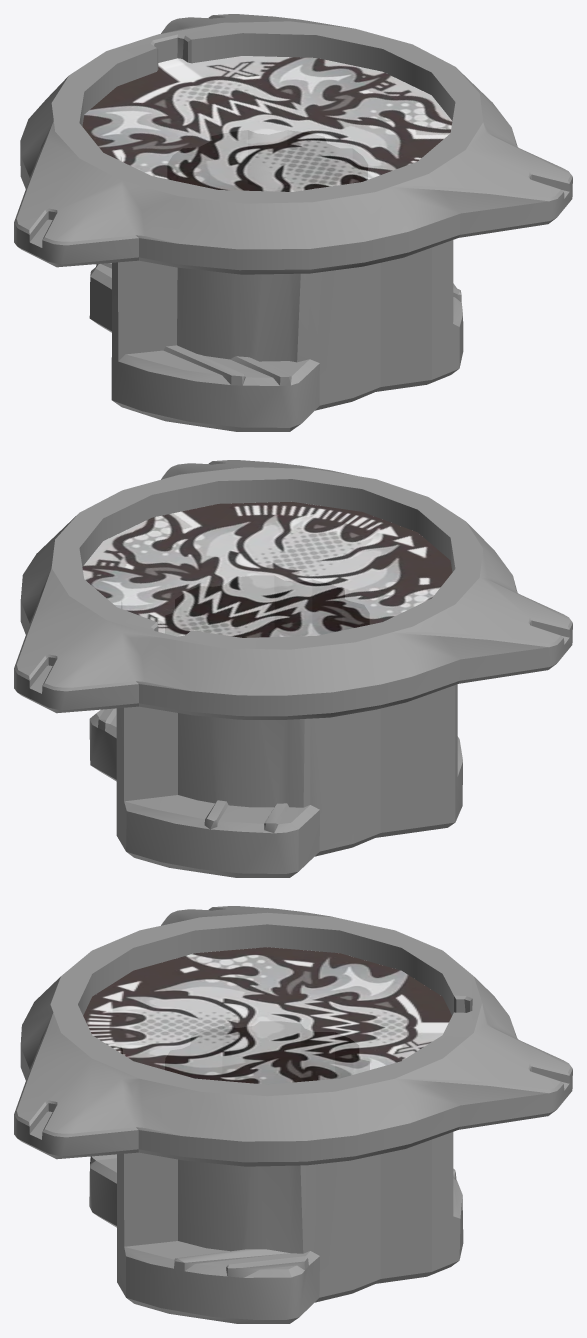
File: chip.glb
The picture shows the model from 3 angles, top to bottom: view 1: azimuth 30°, elevation 25°; view 2: azimuth 150°, elevation 25°; view 3: azimuth 270°, elevation 25°; orthographic projection.
Parts seen in each view (by area): view 1: Chip_parts01; view 2: Chip_parts01; view 3: Chip_parts01.
Boxes of the visible parts, x1,y1,x2,y2 form: Chip_parts01: [14, 14, 572, 431]; Chip_parts01: [14, 460, 572, 877]; Chip_parts01: [14, 906, 572, 1323].
Bounding box in the file's own units: 24.41 × 11.73 × 24.47.
Materials: 2 (1 with a texture image).
